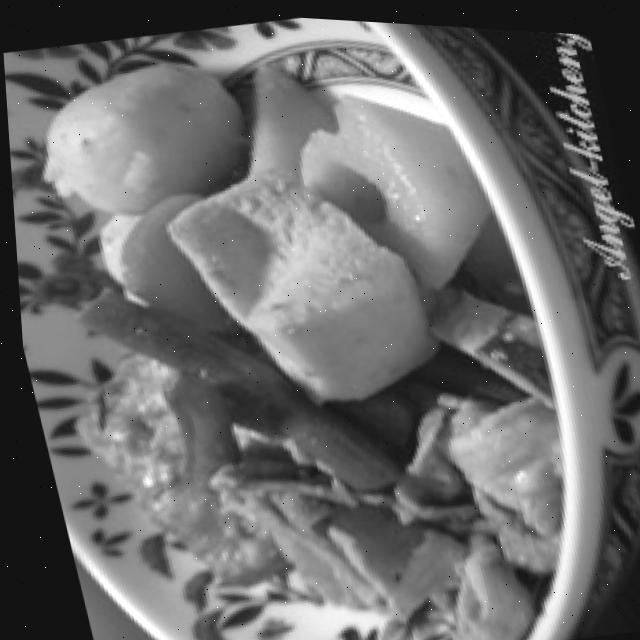鸡肉料理 含炸鸡: (2, 15, 596, 640)
